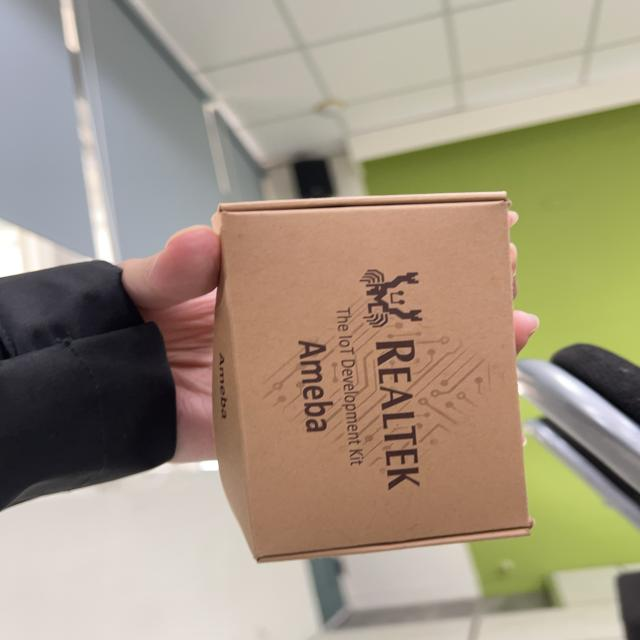box: (182, 184, 541, 566)
